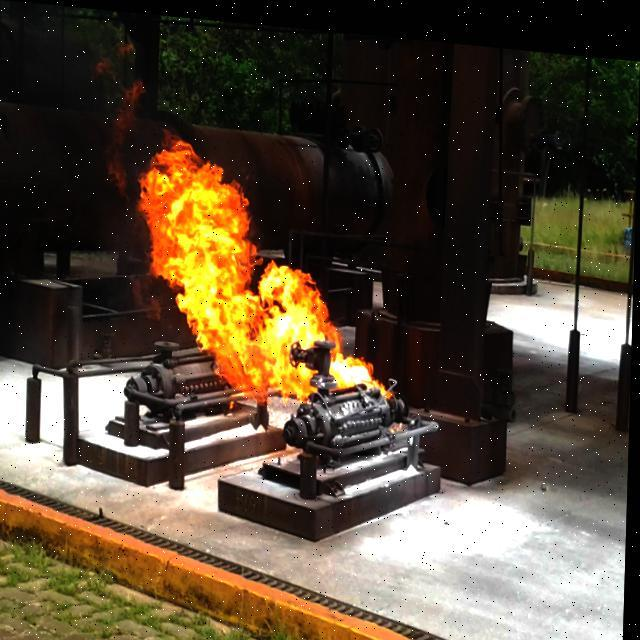Fire: (97, 57, 401, 415)
